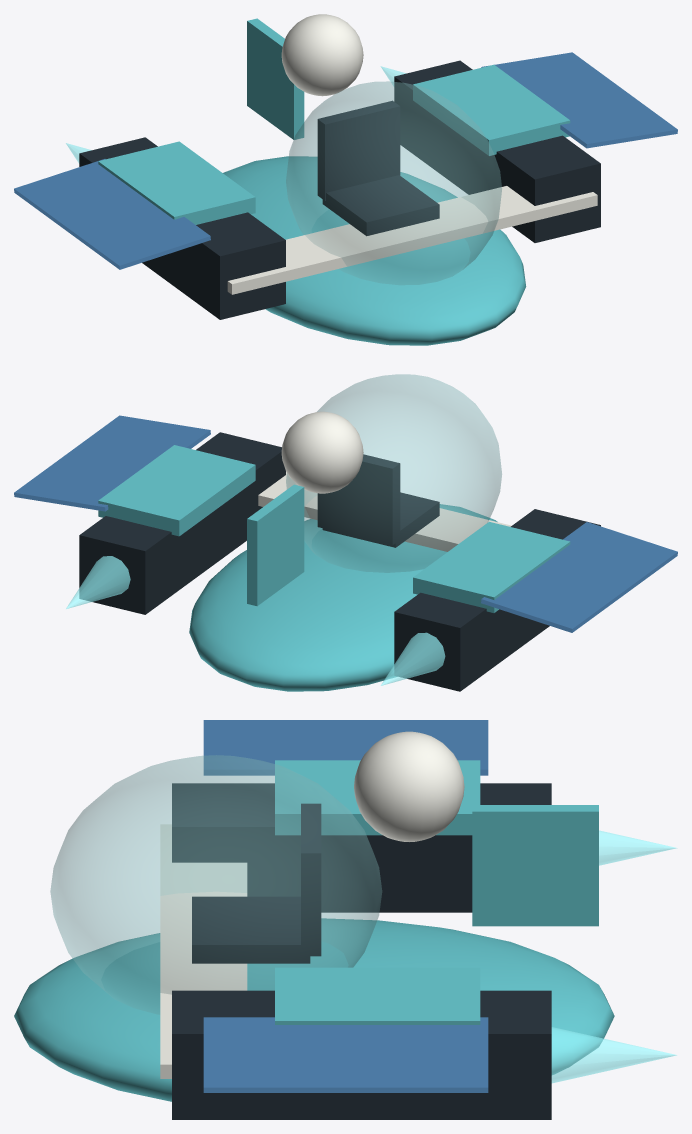
The model's file is survey-space.glb.
The picture shows the model from 3 angles, top to bottom: view 1: azimuth 30°, elevation 25°; view 2: azimuth 150°, elevation 25°; view 3: azimuth 270°, elevation 25°; orthographic projection. The views are drawn at different scales.
Parts seen in each view (by area): view 1: survey-space; view 2: survey-space; view 3: survey-space.
Part boxes in pixels (left/top/right/bottom): survey-space: left=14, top=14, right=677, bottom=345; survey-space: left=14, top=374, right=677, bottom=691; survey-space: left=14, top=720, right=676, bottom=1119.
Size of the model in its own units: 5.5 by 2.31 by 4.2.
